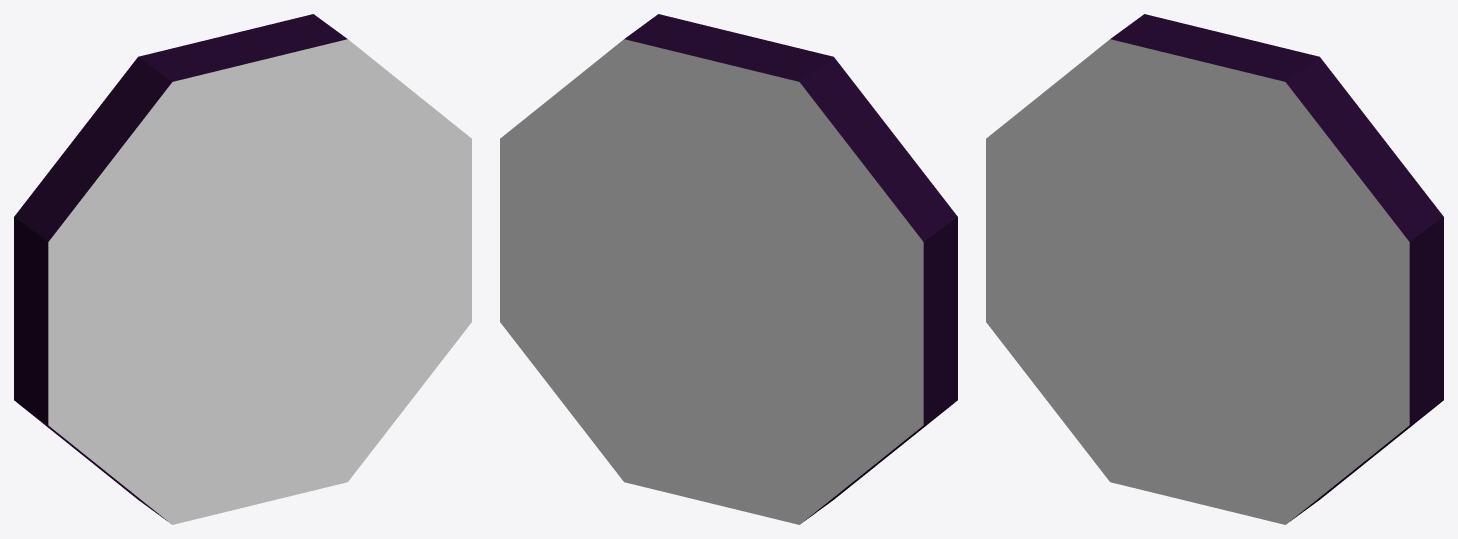
The model's file is aubergine02.gltf.
3 views of the same model, side by side, from view 1: azimuth 30°, elevation 25°; view 2: azimuth 150°, elevation 25°; view 3: azimuth 330°, elevation 25° (orthographic).
Visible parts, largest first — view 1: Cylinder.001; view 2: Cylinder.001; view 3: Cylinder.001.
Part boxes in pixels (left/top/right/bottom): Cylinder.001: left=14, top=14, right=471, bottom=524; Cylinder.001: left=500, top=14, right=957, bottom=524; Cylinder.001: left=986, top=14, right=1443, bottom=524.
Bounding box in the file's own units: 0.0626 × 0.0626 × 0.00879.
1 material, 1 textured.
